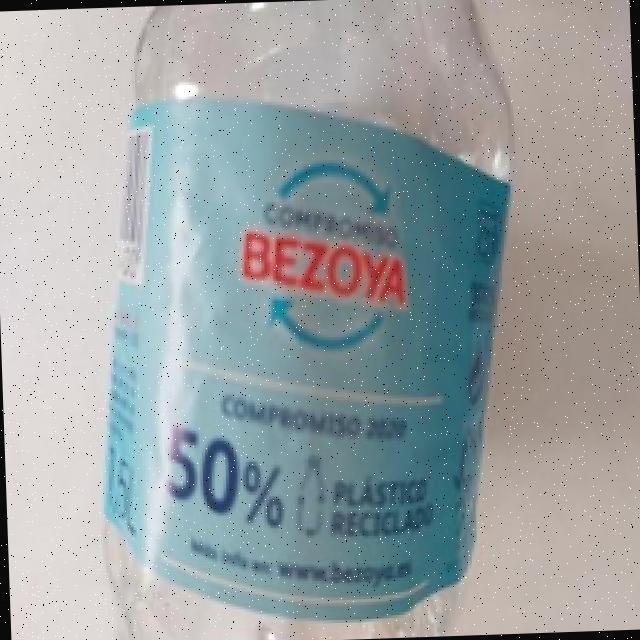bottle: (69, 0, 554, 640)
